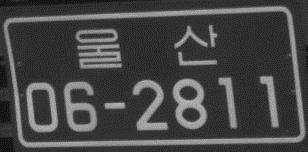-: (101, 99, 130, 113)
0: (24, 80, 59, 135)
1: (215, 74, 243, 130), (255, 74, 281, 129)
2: (132, 76, 169, 134)
6: (61, 79, 97, 134)
8: (172, 76, 209, 131)
울산_D: (73, 21, 219, 73)
